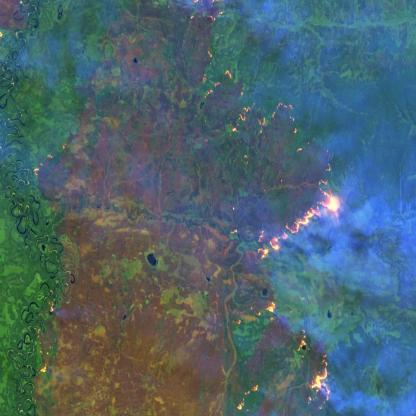fire: (229, 298, 335, 416), (251, 150, 345, 272)
